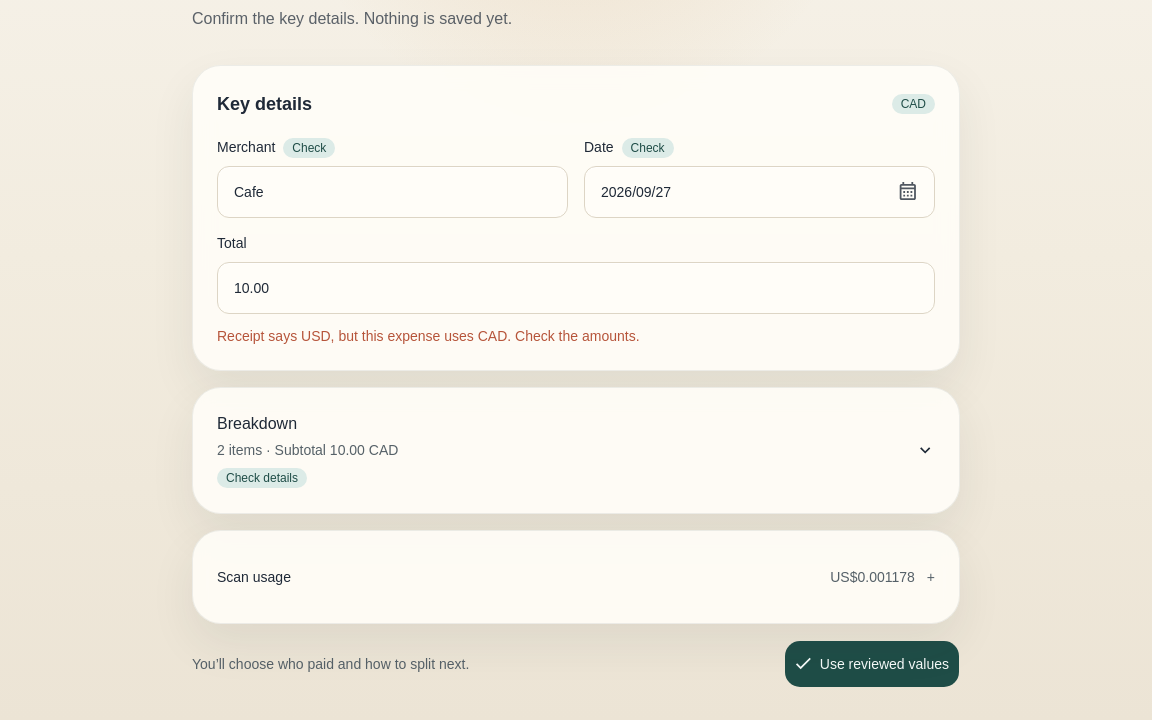
Scenario: ReceiptDraftReview › shows per-scan USD usage behind a disclosure without changing reviewed values
(page scrolled)
Check: the text "US$0.001178" is shown, box [830,568,915,584]
Click the heading "Scan usage US$0.001178 +".
click(254, 577)  # box [217,568,935,584]
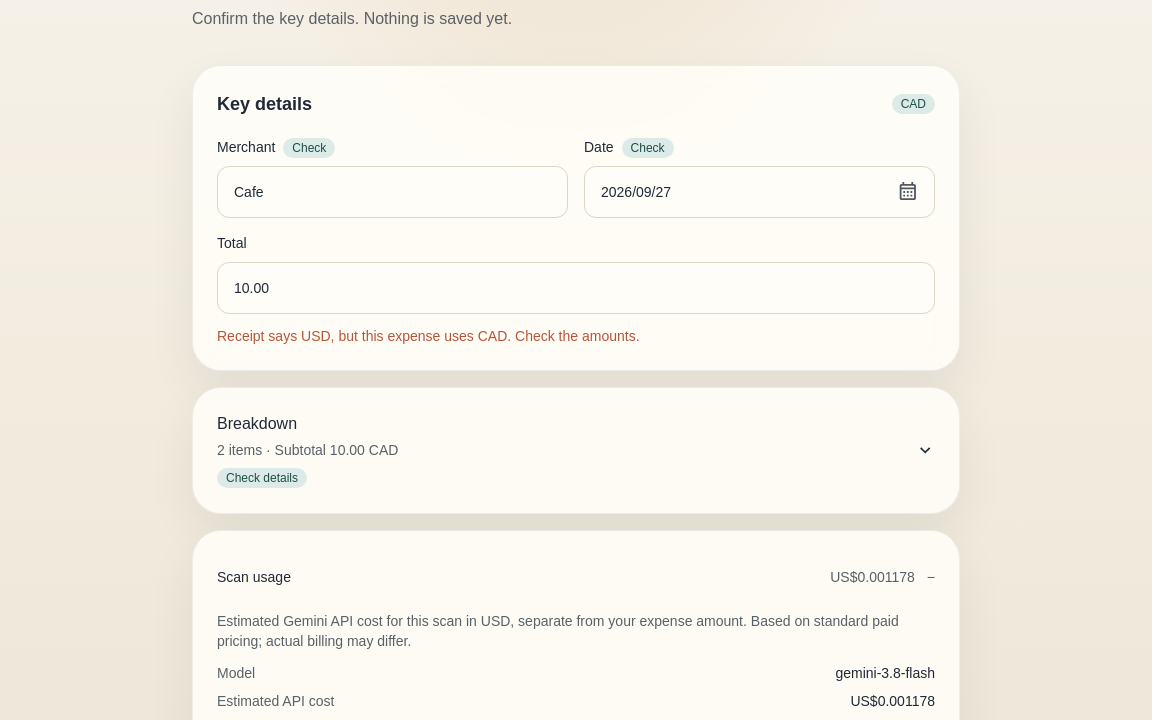
Check: the number field labelled "Total" holds "10", box [217,262,935,314]
Check: the text "separate from your expense amount" is shown, box [217,612,899,648]
